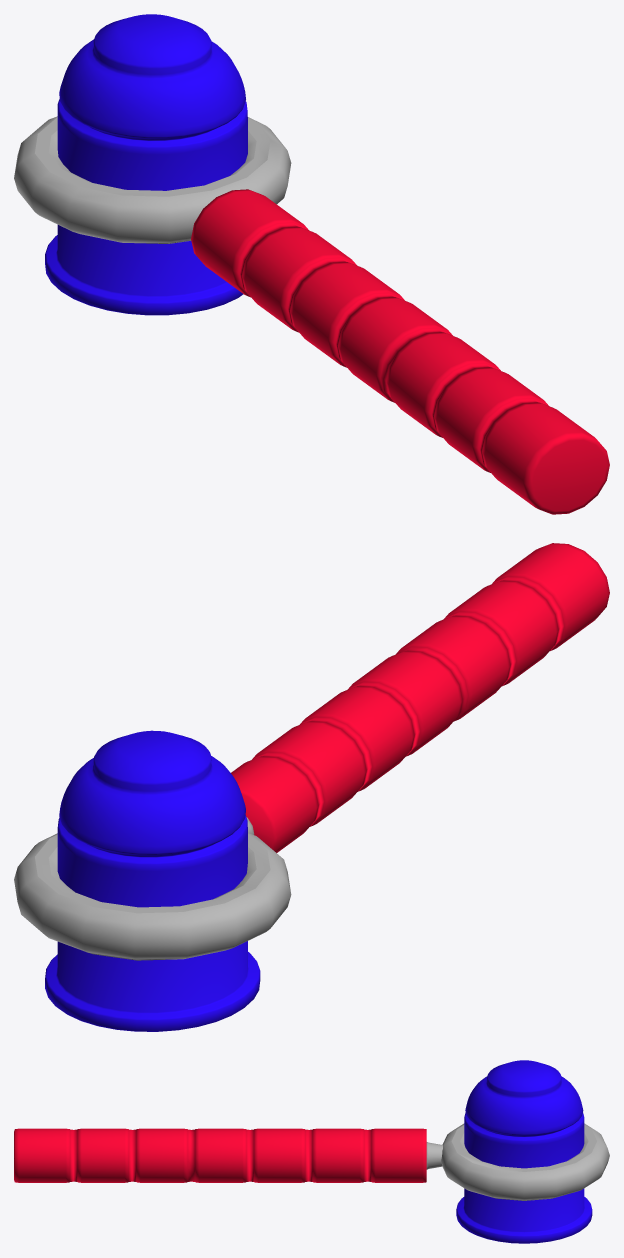
File: Obstacle11.fbx
The picture shows the model from 3 angles, top to bottom: view 1: azimuth 30°, elevation 25°; view 2: azimuth 150°, elevation 25°; view 3: azimuth 270°, elevation 25°; orthographic projection. The views are drawn at different scales.
Parts seen in each view (by area): view 1: Cylinder.026, Cylinder.022, Torus.009; view 2: Cylinder.022, Cylinder.026, Torus.009; view 3: Cylinder.026, Cylinder.022, Torus.009.
Part boxes in pixels (left/top/right/bottom): Cylinder.026: left=191, top=189, right=609, bottom=514; Cylinder.022: left=45, top=14, right=247, bottom=315; Torus.009: left=14, top=116, right=291, bottom=243; Cylinder.022: left=45, top=730, right=260, bottom=1031; Cylinder.026: left=231, top=543, right=609, bottom=852; Torus.009: left=14, top=833, right=291, bottom=960; Cylinder.026: left=14, top=1128, right=442, bottom=1182; Cylinder.022: left=456, top=1060, right=592, bottom=1243; Torus.009: left=441, top=1123, right=609, bottom=1200.
Size of the model in its own units: 179 by 169 by 622.
